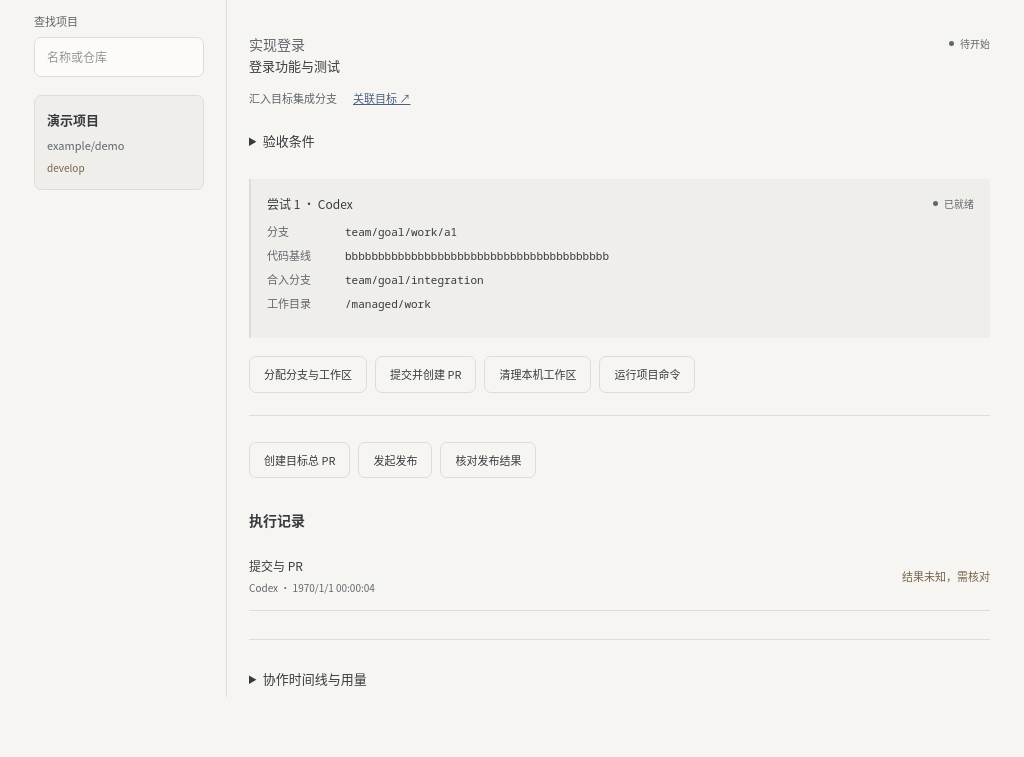
Test: GitHub 项目管理 › 未知操作提供核对入口而非重新执行
(page scrolled)
Click the text "提交与 PR". click: (276, 566)
box: [249,557,375,595]
(page scrolled)
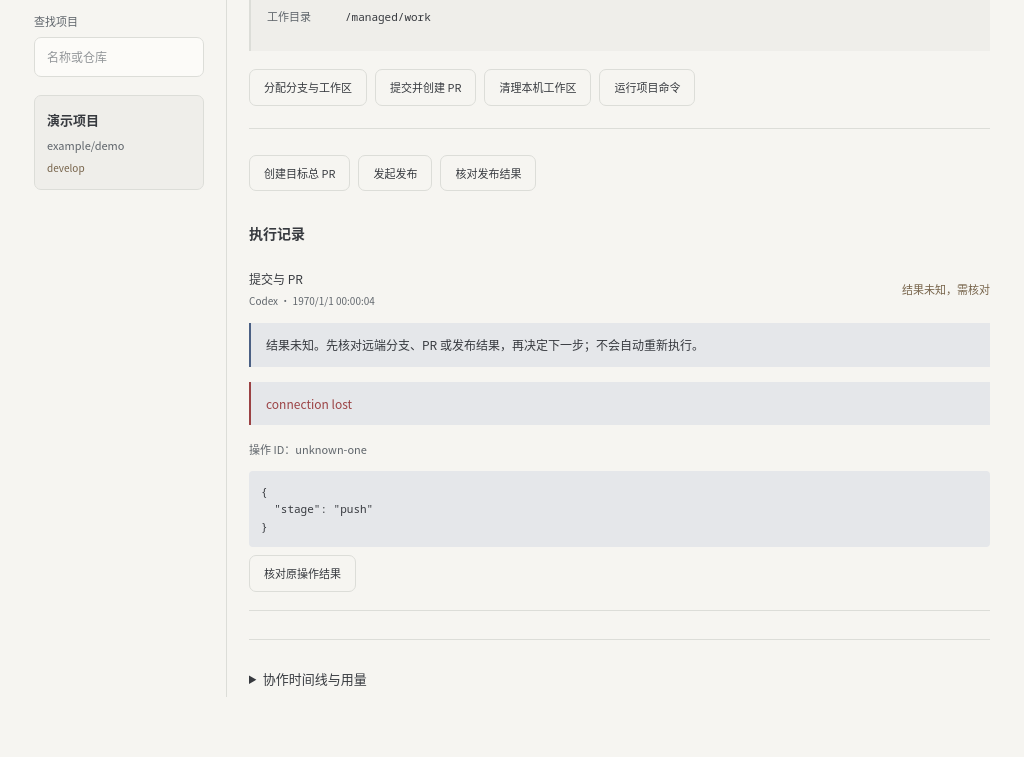
expect the text "结果未知。先核对远端分支、PR 或发布结果，再决定下一步；不会自动重新执行。" is shown: met, box [249,323,990,367]
Click the button "核对原操作结果". click: (302, 574)
box: [249,555,356,592]
(page scrolled)
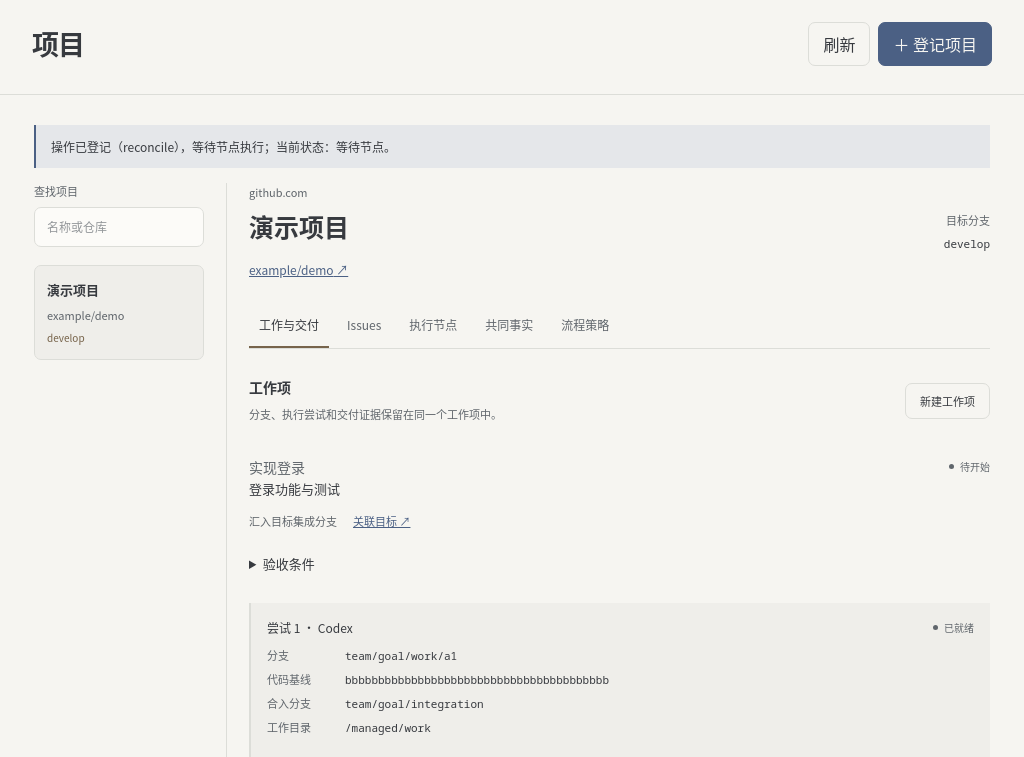
expect the message shows "等待节点": met, box [51,138,396,155]
